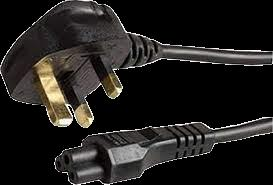cable: (0, 1, 273, 128), (56, 118, 273, 184)
